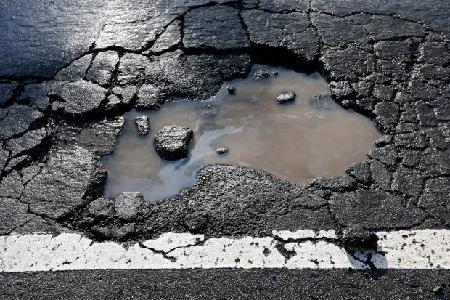pothole: (54, 39, 393, 242)
